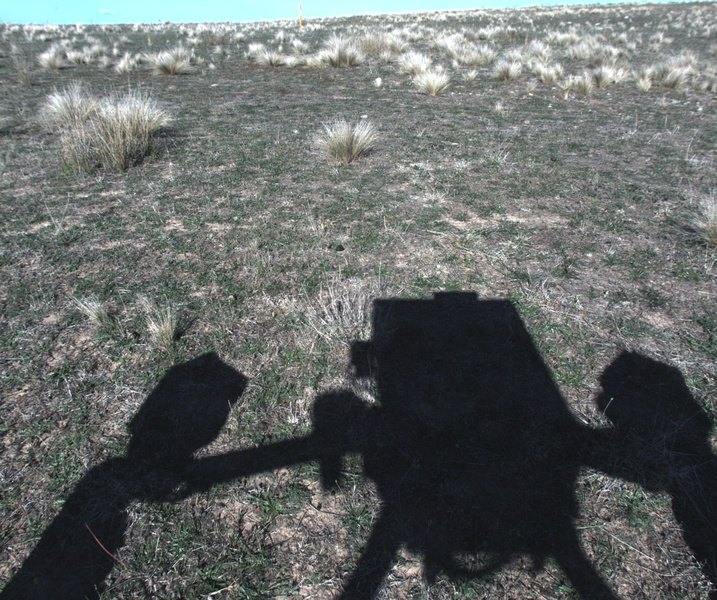st: (75, 115, 148, 170), (321, 116, 370, 165), (108, 92, 168, 131), (41, 84, 81, 127), (323, 35, 359, 67), (694, 192, 717, 241), (416, 67, 448, 101), (528, 59, 564, 85), (160, 49, 193, 76), (662, 55, 691, 85), (394, 53, 426, 76), (580, 66, 618, 85), (42, 46, 72, 70), (254, 46, 285, 67), (495, 59, 522, 82), (119, 51, 139, 80), (634, 67, 655, 89)
